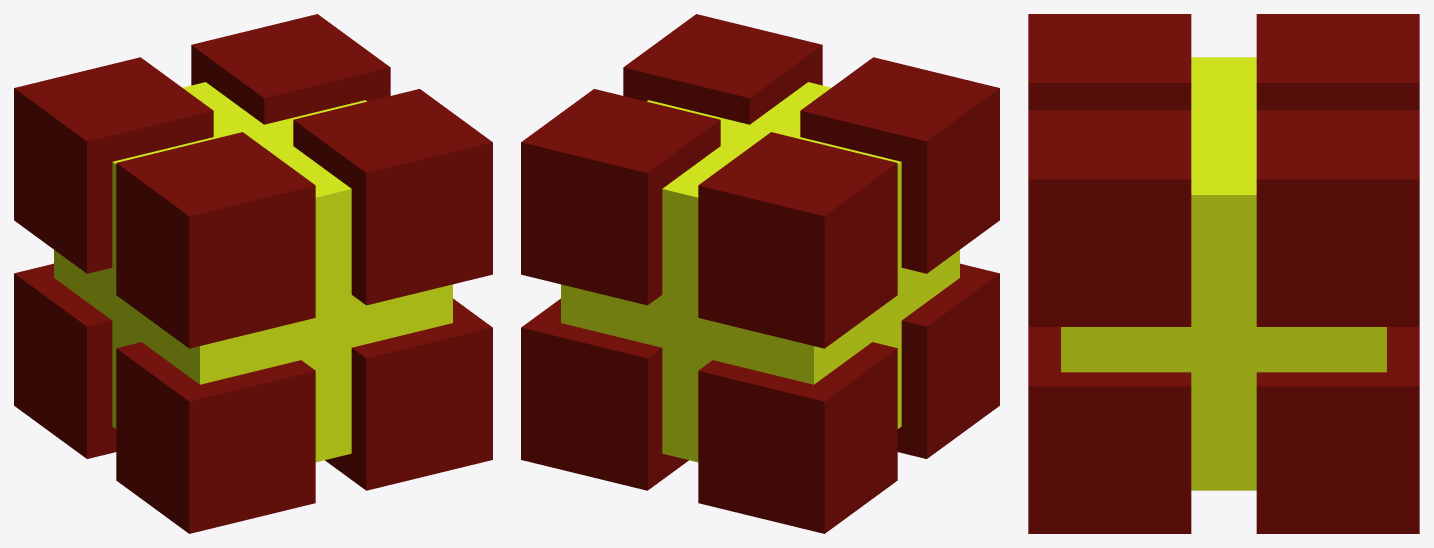
The model's file is Iron.fbx.
3 views of the same model, side by side, from view 1: azimuth 30°, elevation 25°; view 2: azimuth 150°, elevation 25°; view 3: azimuth 270°, elevation 25° (orthographic). The views are drawn at different scales.
Parts seen in each view (by area): view 1: Iron; view 2: Iron; view 3: Iron.
Part boxes in pixels (x1,y1,x2,y2): Iron: (14,14,492,533); Iron: (521,14,999,533); Iron: (1028,14,1419,533).
Size of the model in its own units: 12 by 12 by 12.
1 material, 1 textured.
